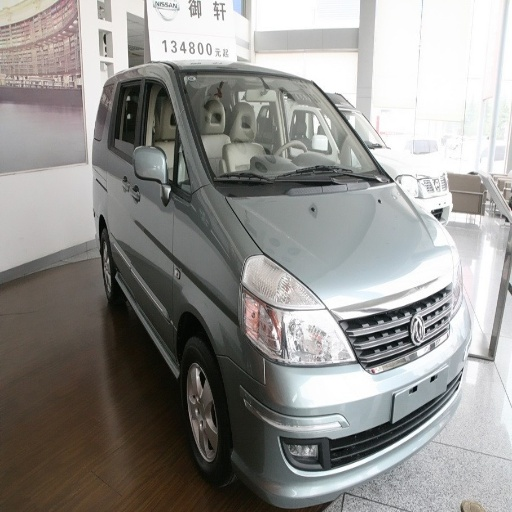front_bumper: (221, 349, 463, 509)
front_right_door: (133, 69, 194, 338)
front_right_light: (241, 259, 349, 365)
